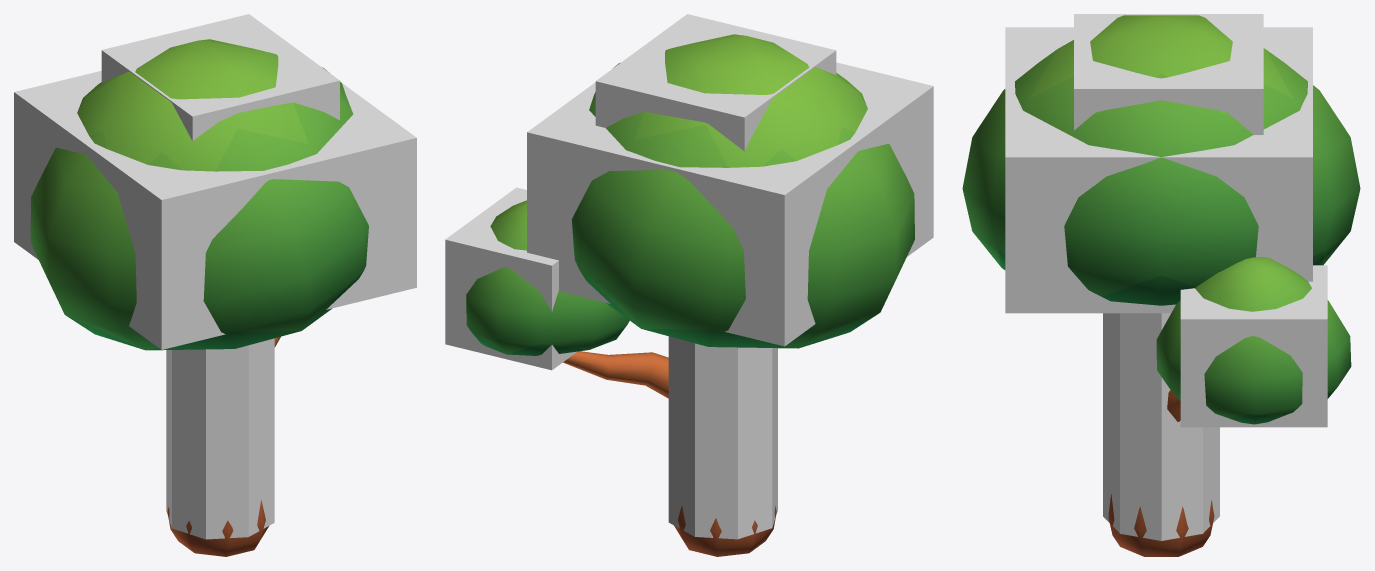
Rendered from tree_b.glb.
3 renders of one model, left to right at view 1: azimuth 30°, elevation 25°; view 2: azimuth 150°, elevation 25°; view 3: azimuth 270°, elevation 25°, orthographic. The views are drawn at different scales.
Visible parts, largest first — view 1: Tree_B, COL_BOX_00, COL_CYL_00, COL_BOX_01; view 2: Tree_B, COL_BOX_00, COL_CYL_00, COL_BOX_01, COL_BOX_02; view 3: Tree_B, COL_BOX_00, COL_CYL_00, COL_BOX_02, COL_BOX_01.
Boxes of the visible parts, x1,y1,x2,y2 form: Tree_B: (30, 39, 368, 556); COL_BOX_00: (14, 70, 416, 349); COL_CYL_00: (166, 338, 274, 539); COL_BOX_01: (101, 14, 339, 140); Tree_B: (466, 34, 914, 556); COL_BOX_00: (527, 62, 933, 346); COL_CYL_00: (668, 336, 777, 539); COL_BOX_01: (595, 14, 836, 151); COL_BOX_02: (445, 187, 576, 370); Tree_B: (962, 15, 1360, 556); COL_BOX_00: (1005, 27, 1312, 313); COL_CYL_00: (1103, 313, 1219, 540); COL_BOX_02: (1180, 265, 1327, 427); COL_BOX_01: (1074, 14, 1263, 134).
Size of the model in its own units: 3.41 by 4.19 by 2.93.
1 material, 1 textured.
